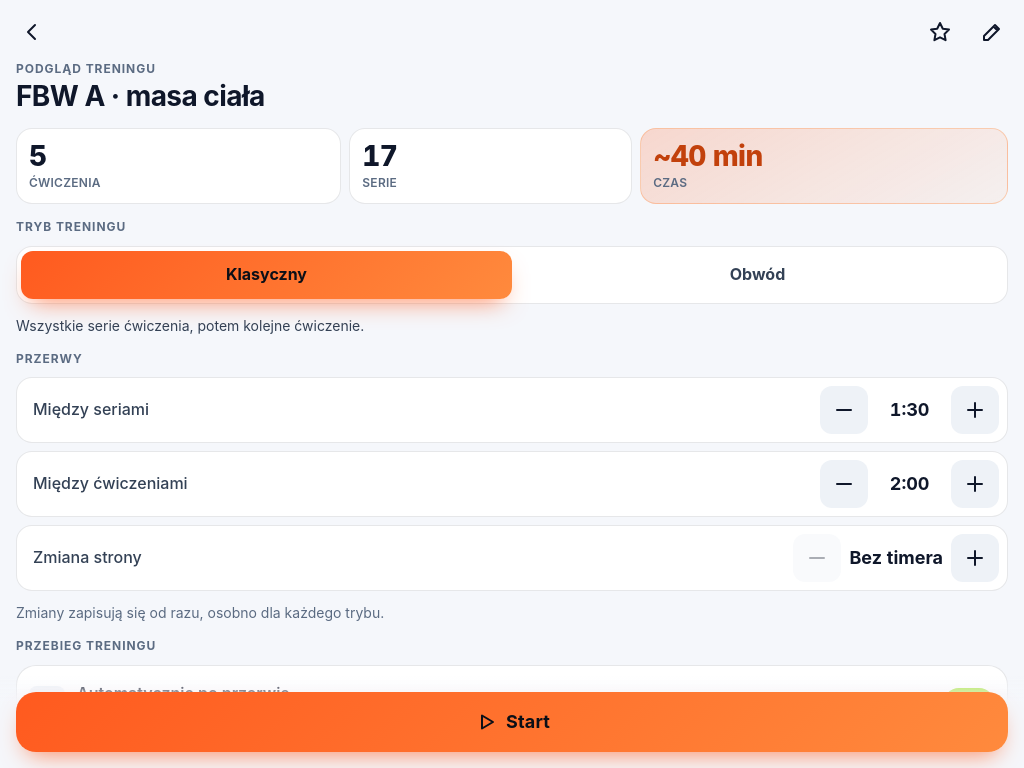
Test: PreviewScreen › switches mode and keeps each mode rest values (FR8, D17)
Click the button named "Zwiększ: Między seriami": (975, 410) [951,386,999,434]
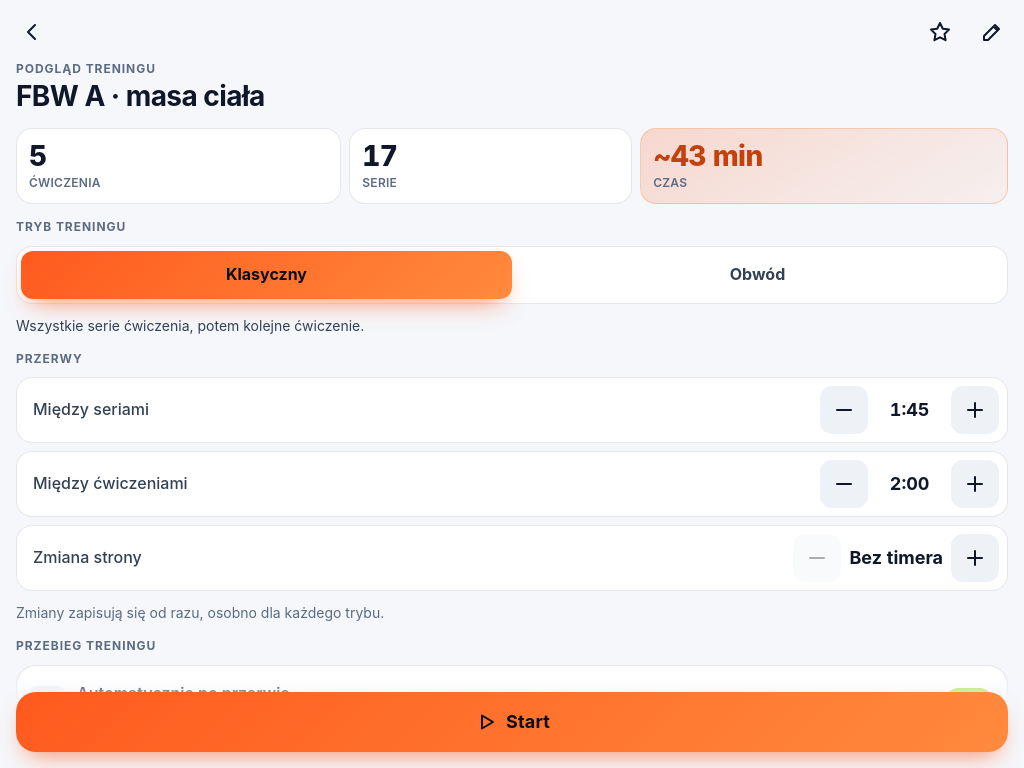
Click the radio button labelled "Obwód": (758, 275) [512,251,1003,299]
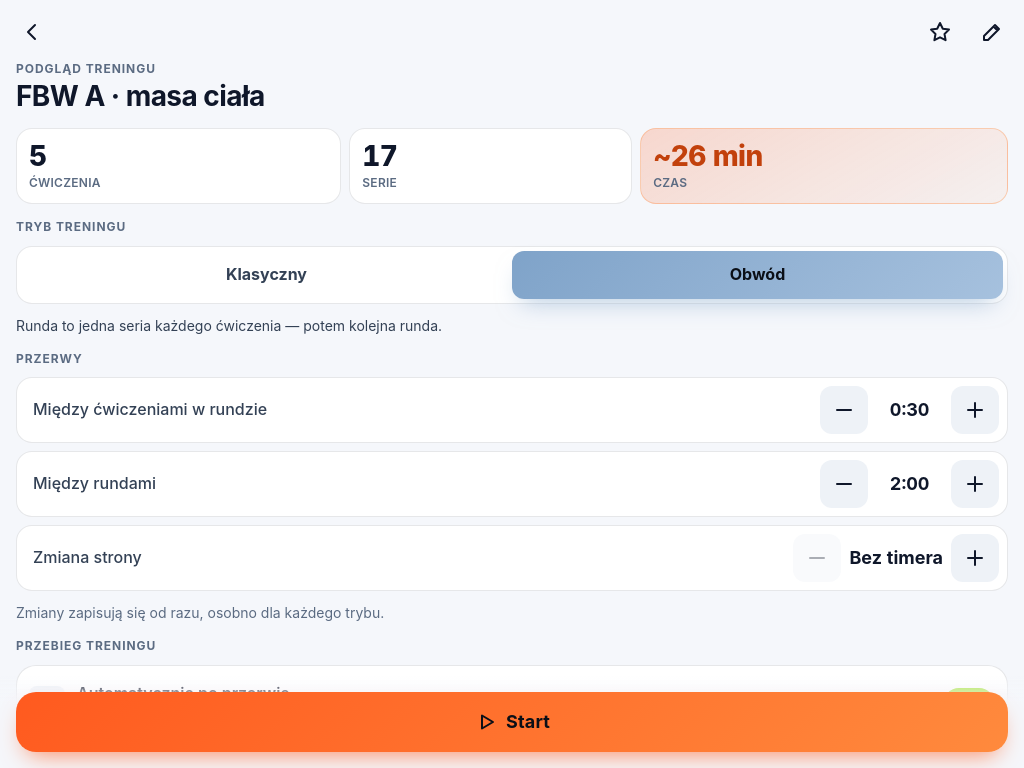
Click the button named "Zmniejsz: Między ćwiczeniami w rundzie": (844, 410) [820,386,868,434]
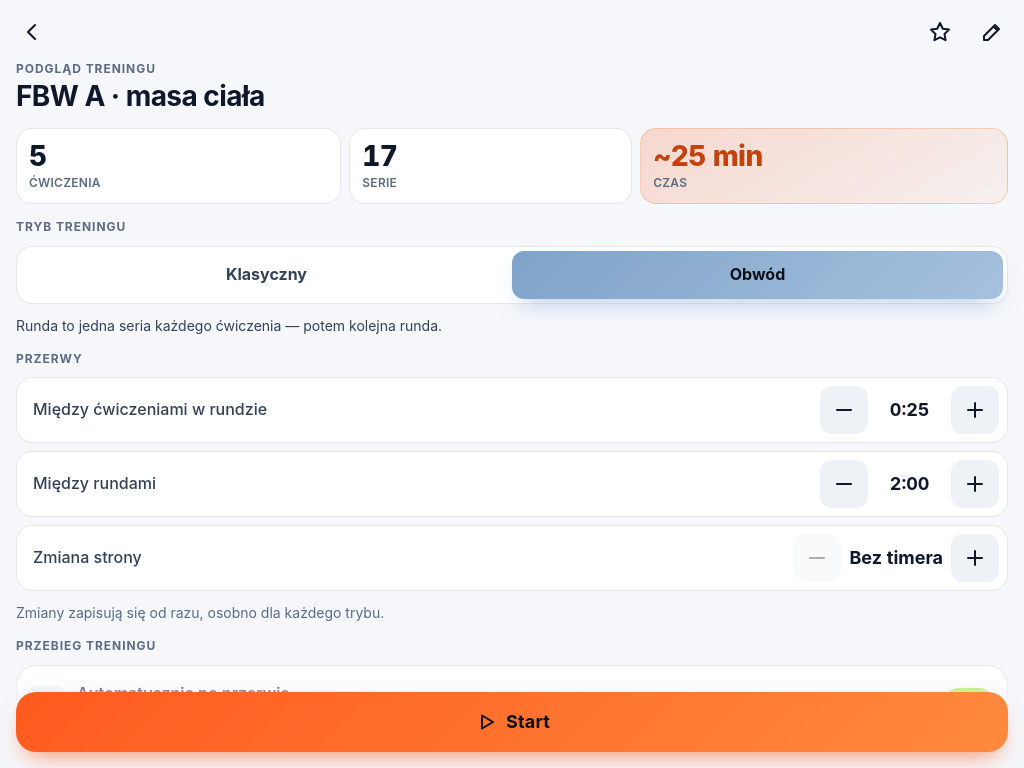
Click the radio button labelled "Klasyczny": (266, 275) [21,251,512,299]
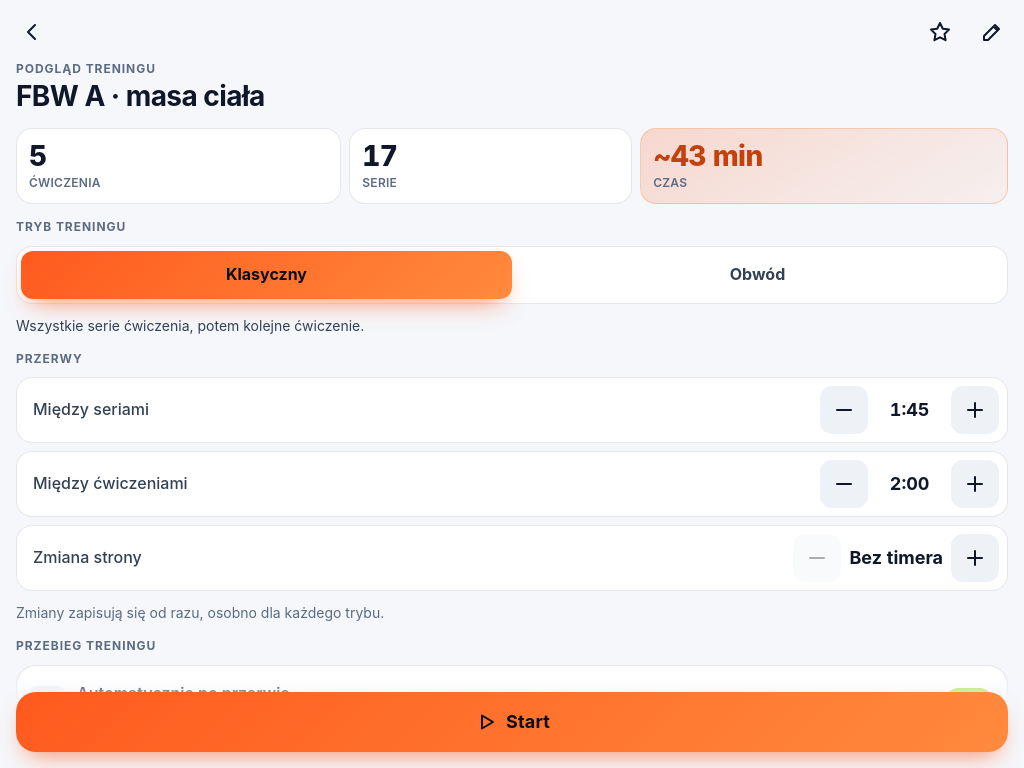
Now the text "1:45" is shown, box [890,399,930,420]
